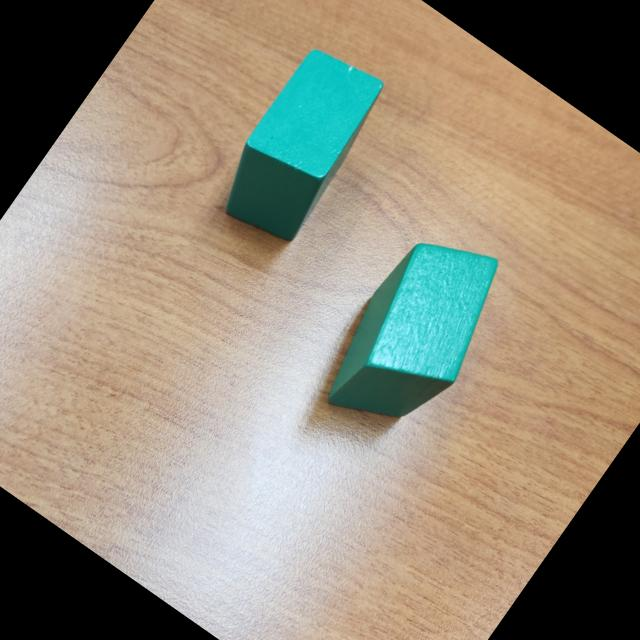green: (304, 210, 525, 458), (203, 37, 397, 256)
